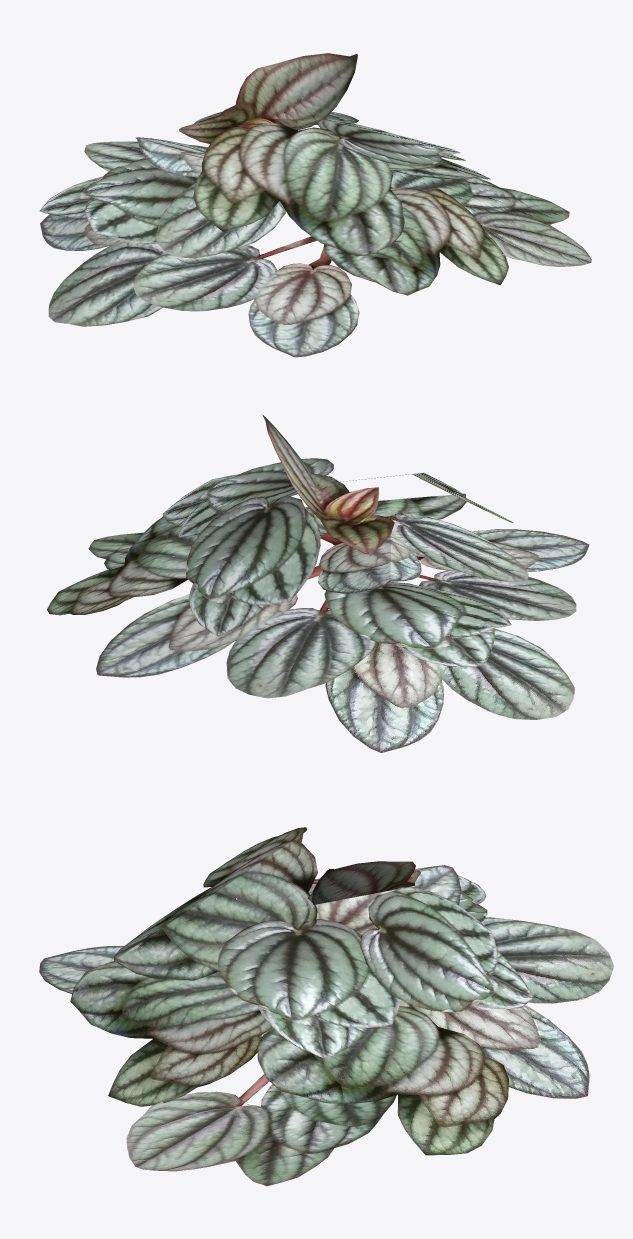
The model's file is Peperomia1.fbx.
3 views of the same model, one above another, from view 1: azimuth 30°, elevation 25°; view 2: azimuth 150°, elevation 25°; view 3: azimuth 270°, elevation 25° (orthographic). The views are drawn at different scales.
Parts seen in each view (by area): view 1: Peperomia1; view 2: Peperomia1; view 3: Peperomia1.
Boxes of the visible parts, x1,y1,x2,y2 form: Peperomia1: (39,53,591,357); Peperomia1: (47,414,589,752); Peperomia1: (39,827,614,1186).
Size of the model in its own units: 77.5 by 31.22 by 64.31.
